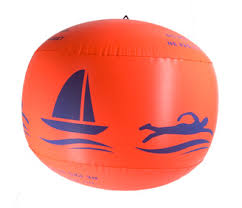buoy: (22, 21, 218, 191)
